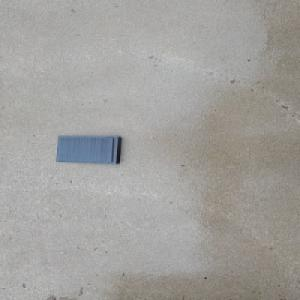PlasticPart: (53, 135, 122, 164)
